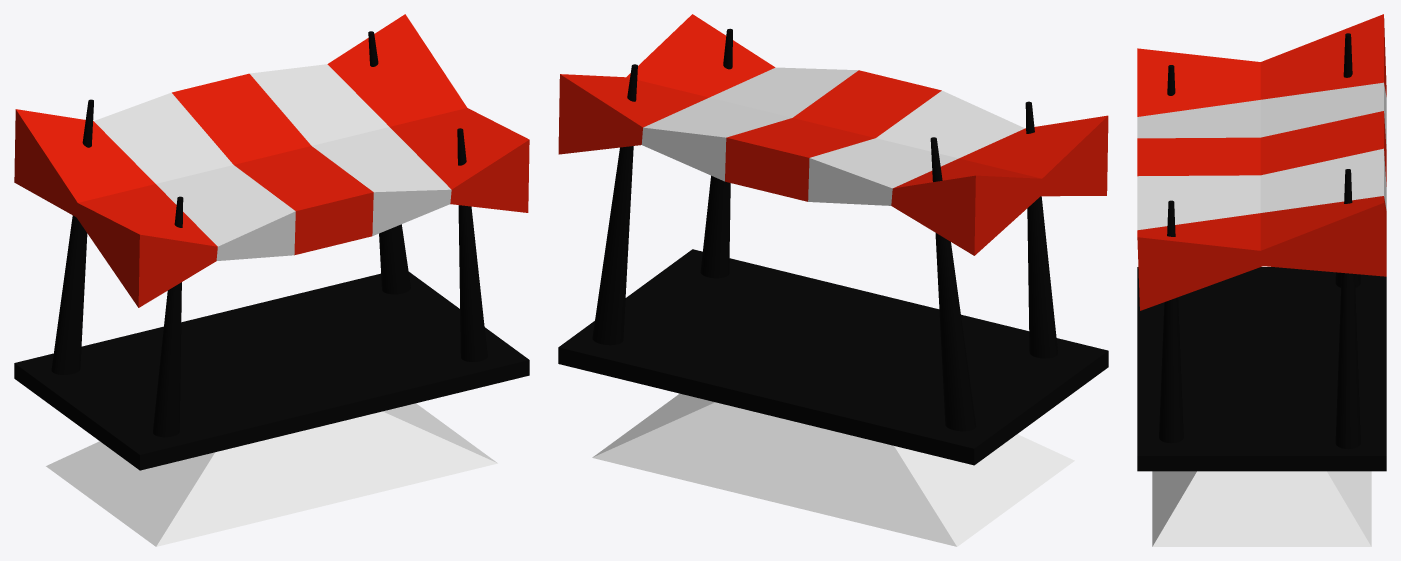
The model's file is Stand.fbx.
3 views of the same model, side by side, from view 1: azimuth 30°, elevation 25°; view 2: azimuth 150°, elevation 25°; view 3: azimuth 270°, elevation 25° (orthographic). The views are drawn at different scales.
Parts seen in each view (by area): view 1: Stand; view 2: Stand; view 3: Stand.
Boxes of the visible parts, <box> form: Stand: <box>14,14,529,546</box>; Stand: <box>558,14,1108,546</box>; Stand: <box>1137,14,1386,546</box>.
Size of the model in its own units: 1565 by 1403 by 874.
